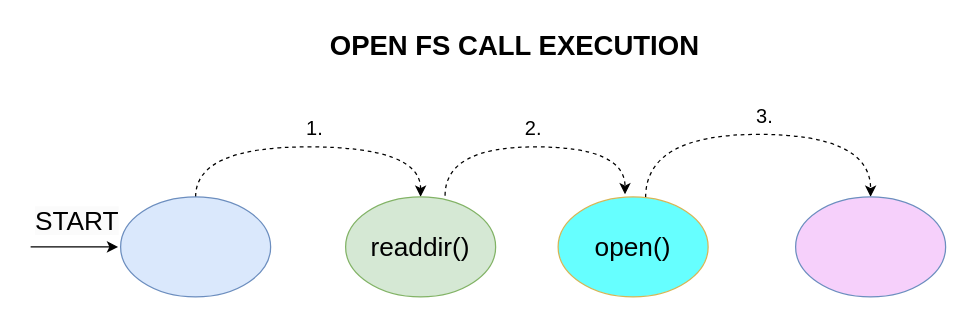
Image size: 968x319. Some labels were removed from this diagram. Here are the shapes that lost their labels. From the top down, the centre of each, then its label:
(x=195, y=246): getattr()
(x=870, y=246): flush()
